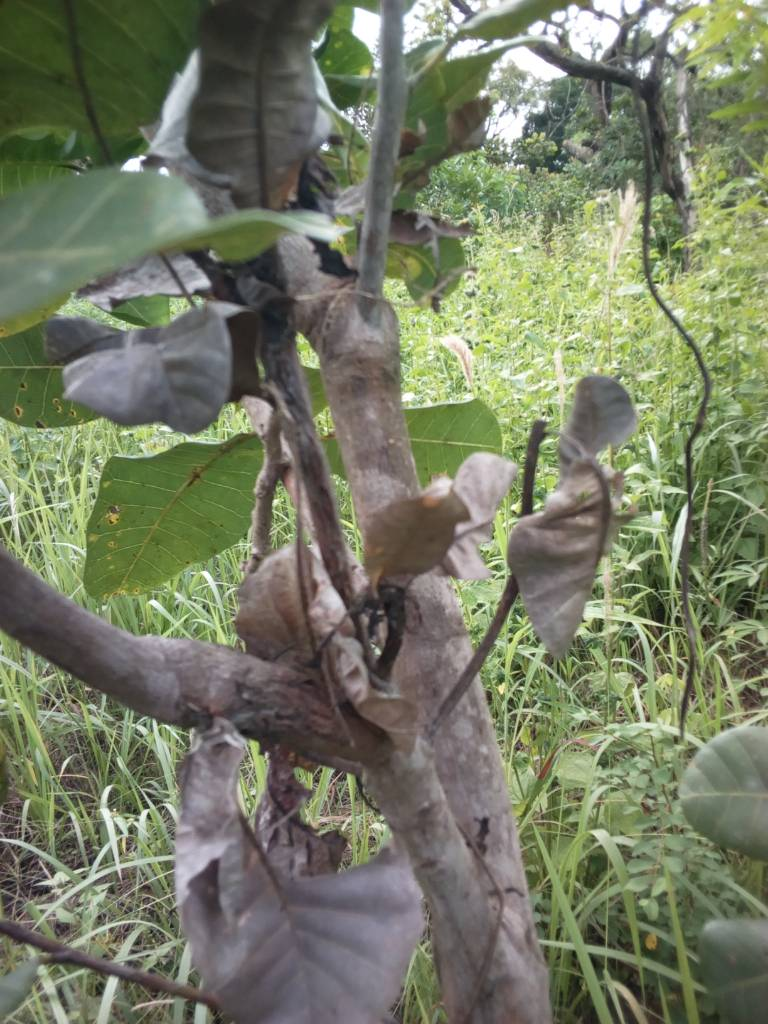Dessèchement des bourgeons: (358, 496, 469, 689)
